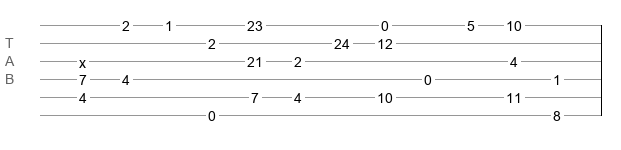0: (208, 108, 216, 118), (381, 18, 389, 28), (424, 72, 432, 82)
1: (165, 18, 173, 28), (553, 72, 561, 82)
10: (377, 90, 393, 100), (506, 18, 522, 28)
11: (506, 90, 522, 100)
12: (377, 36, 393, 46)
2: (122, 18, 130, 28), (208, 36, 216, 46), (294, 54, 302, 64)
21: (247, 54, 263, 64)
23: (247, 18, 263, 28)
24: (334, 36, 350, 46)
4: (79, 90, 87, 100), (122, 72, 130, 82), (294, 90, 302, 100), (510, 54, 518, 64)
5: (467, 18, 475, 28)
7: (79, 72, 87, 82), (251, 90, 259, 100)
8: (553, 108, 561, 118)
x: (79, 55, 86, 63)
